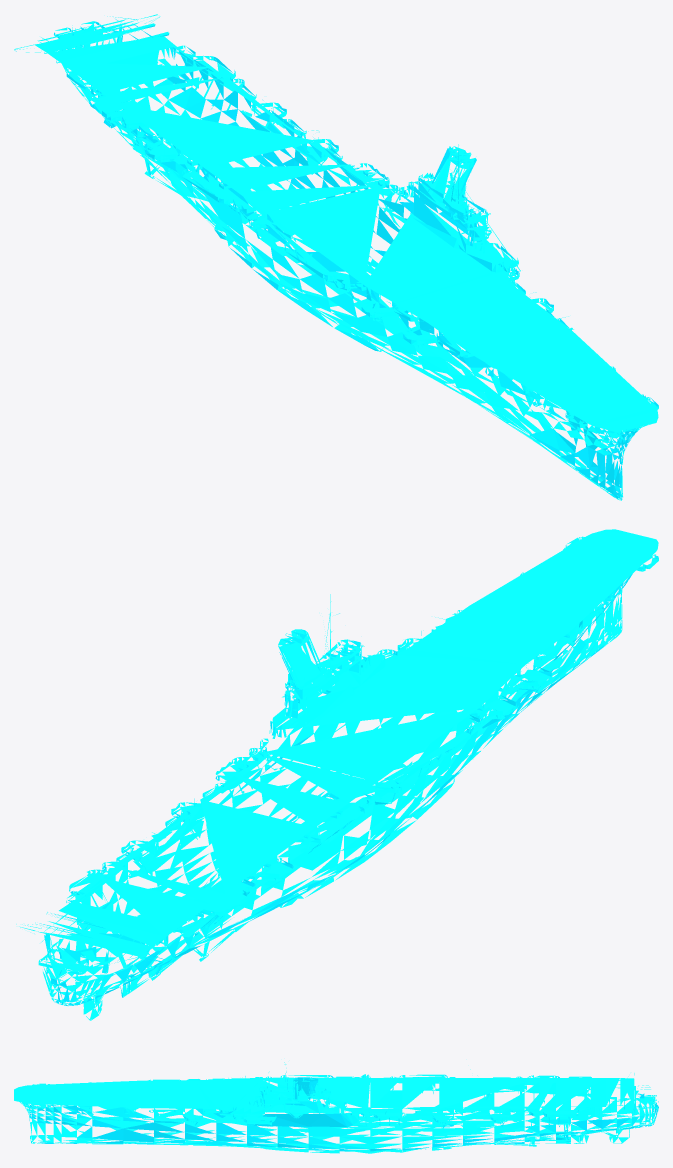
Rendered from Taiho.glb.
3 views of the same model, one above another, from view 1: azimuth 30°, elevation 25°; view 2: azimuth 150°, elevation 25°; view 3: azimuth 270°, elevation 25° (orthographic). The views are drawn at different scales.
Bounding box in the file's own units: 2.99 × 3.31 × 17.41.
